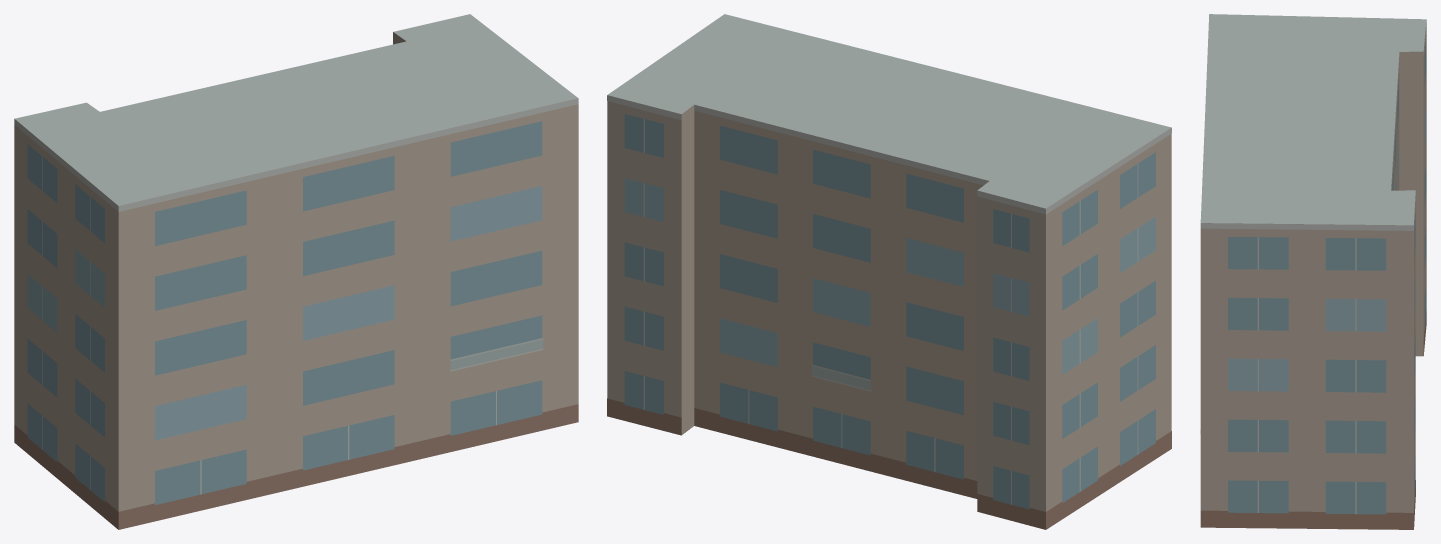
Rendered from survey-upis-32768508.glb.
3 renders of one model, left to right at view 1: azimuth 30°, elevation 25°; view 2: azimuth 150°, elevation 25°; view 3: azimuth 270°, elevation 25°, orthographic. The views are drawn at different scales.
Visible parts, largest first — view 1: survey-upis-32768508.tmp; view 2: survey-upis-32768508.tmp; view 3: survey-upis-32768508.tmp.
Part boxes in pixels (x1=…): survey-upis-32768508.tmp: x1=14, y1=14, x2=578, y2=529; survey-upis-32768508.tmp: x1=607, y1=14, x2=1171, y2=529; survey-upis-32768508.tmp: x1=1200, y1=14, x2=1426, y2=529.
Bounding box in the file's own units: 19.74 × 13.26 × 8.93.
